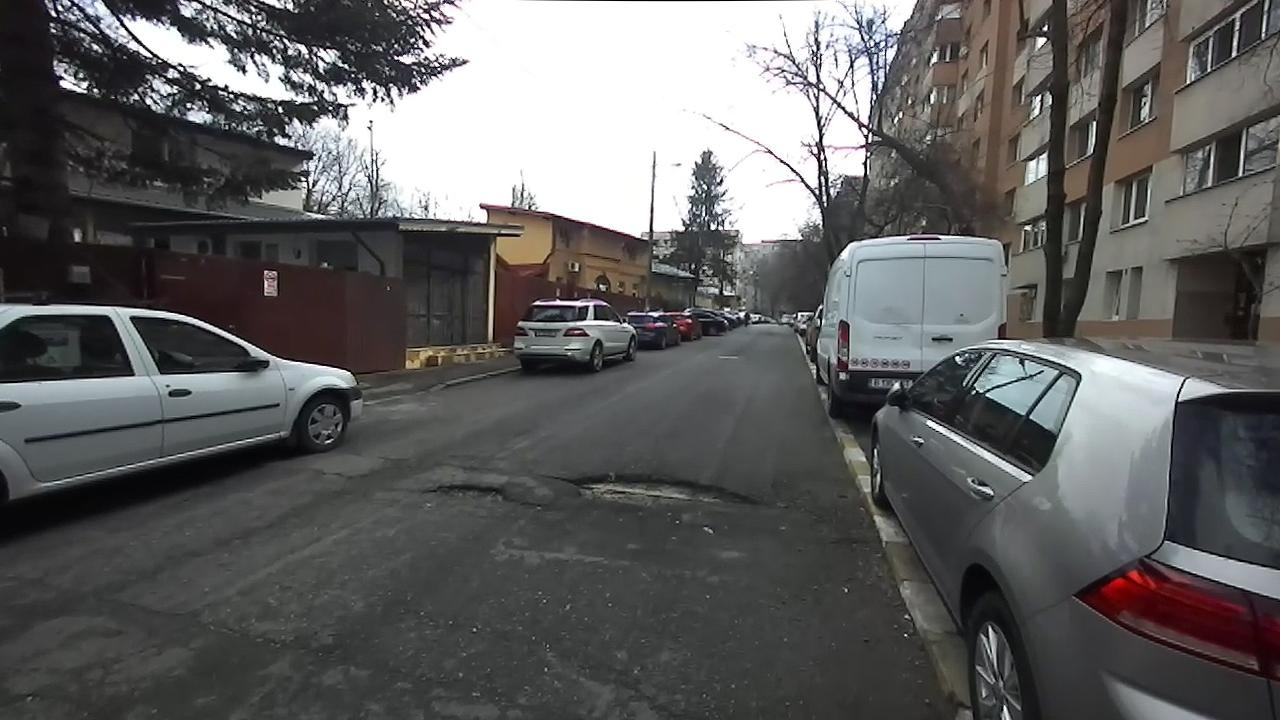pothole: (551, 471, 786, 513), (418, 477, 543, 511)
